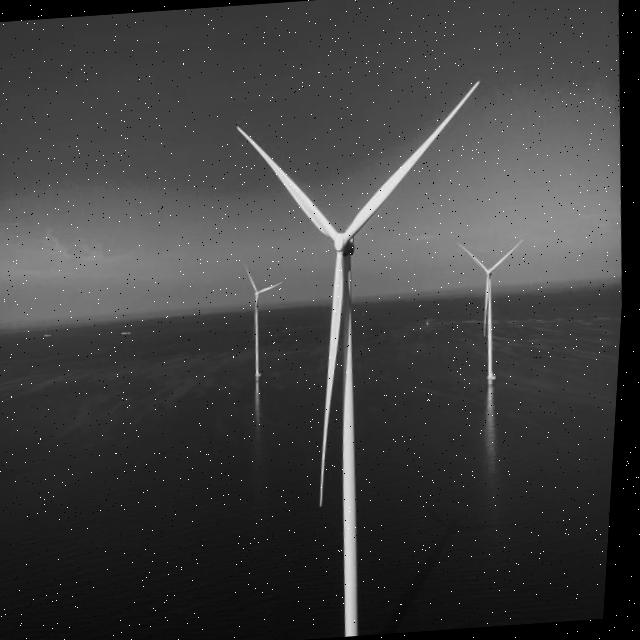solid-blade: (347, 84, 477, 239), (239, 127, 341, 238), (325, 272, 346, 505)
